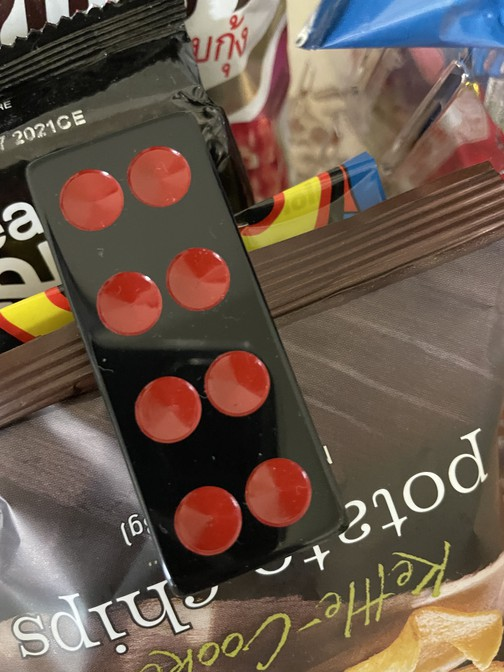man: (24, 114, 351, 598)
